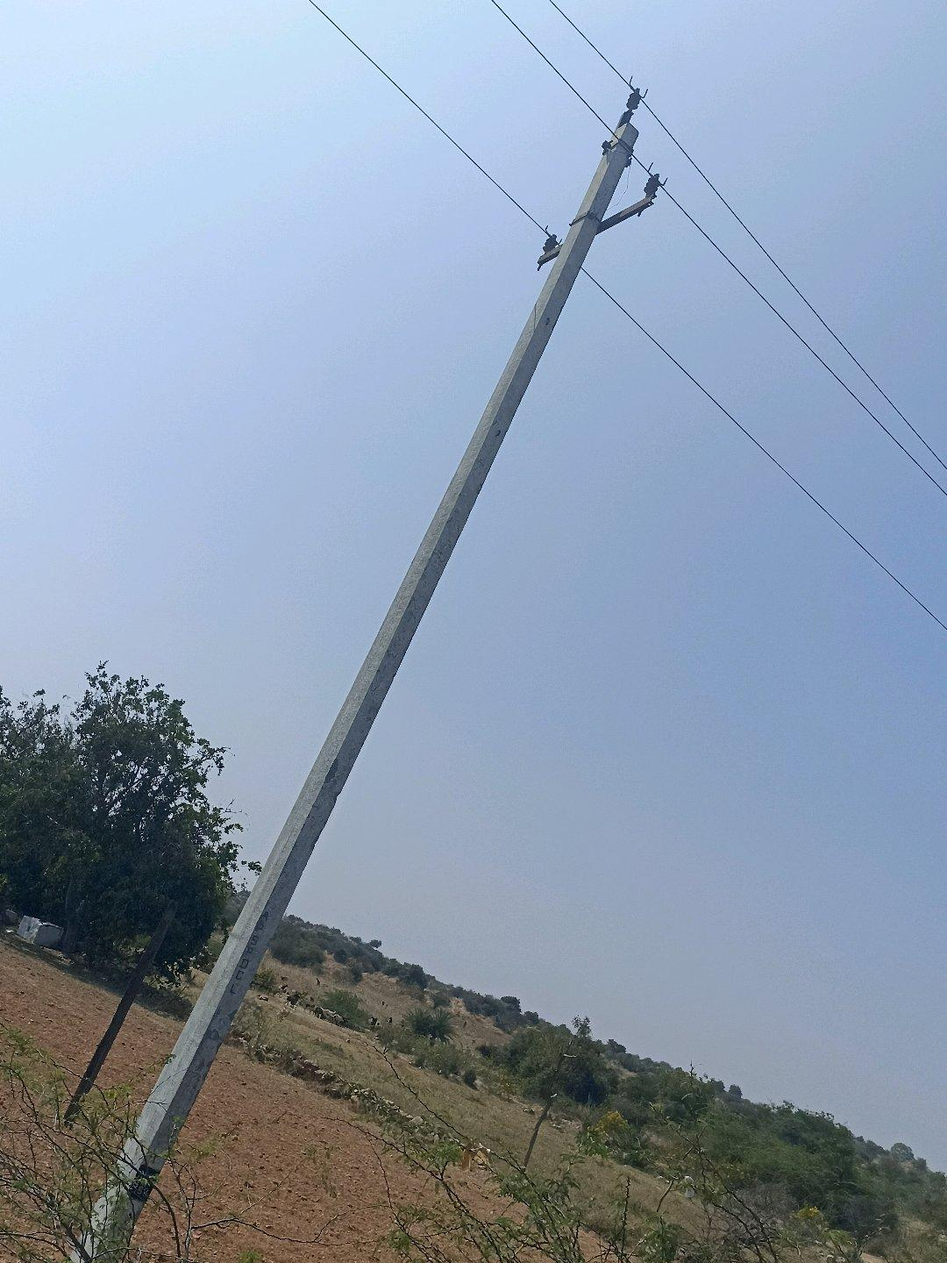{"0" "insulator", "1" "pole", "2" "crossarm", "3" "conductor", "4" "street_: (73, 91, 659, 1262)
